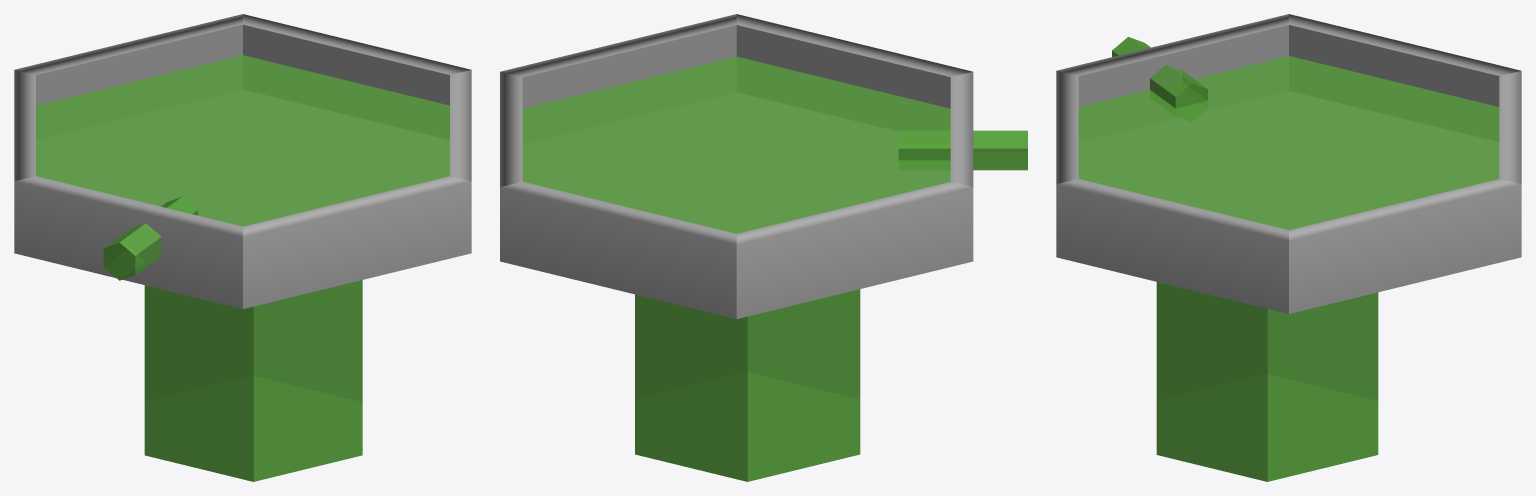
File: PoolGreen.fbx
3 views of the same model, side by side, from view 1: azimuth 30°, elevation 25°; view 2: azimuth 150°, elevation 25°; view 3: azimuth 270°, elevation 25° (orthographic). The views are drawn at different scales.
Visible parts, largest first — view 1: PoolGreen, PoolGreenWater, greenStand, GreenOutPipe; view 2: PoolGreen, PoolGreenWater, greenStand, GreenOutPipe; view 3: PoolGreen, PoolGreenWater, greenStand, GreenOutPipe.
Part boxes in pixels (x1,y1,x2,y2): PoolGreen: (14, 14, 471, 308); PoolGreenWater: (36, 55, 449, 226); greenStand: (144, 280, 362, 481); GreenOutPipe: (103, 197, 197, 280); PoolGreen: (500, 14, 973, 319); PoolGreenWater: (522, 56, 950, 233); greenStand: (635, 289, 860, 481); GreenOutPipe: (898, 130, 1027, 170); PoolGreen: (1056, 14, 1521, 313); PoolGreenWater: (1078, 56, 1499, 229); greenStand: (1156, 282, 1378, 481); GreenOutPipe: (1112, 37, 1207, 121).
Bounding box in the file's own units: 0.05 × 0.0308 × 0.0433.
